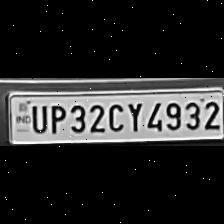2: (201, 97, 221, 130), (86, 100, 106, 132)
3: (66, 100, 86, 134), (182, 98, 200, 130)
4: (144, 98, 162, 132)
9: (162, 99, 182, 131)
C: (105, 100, 123, 132)
P: (46, 102, 66, 134)
U: (28, 102, 46, 132)
Y: (124, 99, 142, 133)
